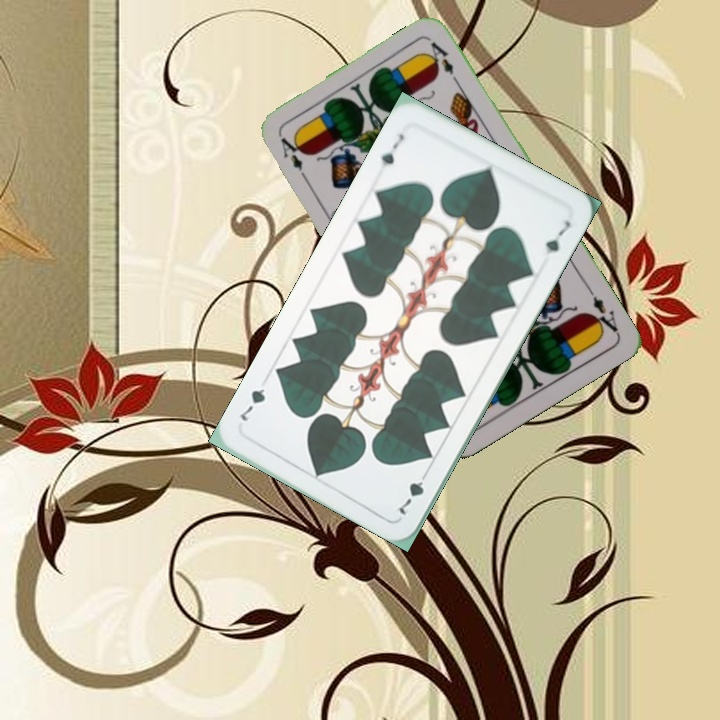EA: (583, 283, 621, 338), (276, 133, 312, 186)
G7: (395, 465, 432, 518), (376, 130, 407, 169)
